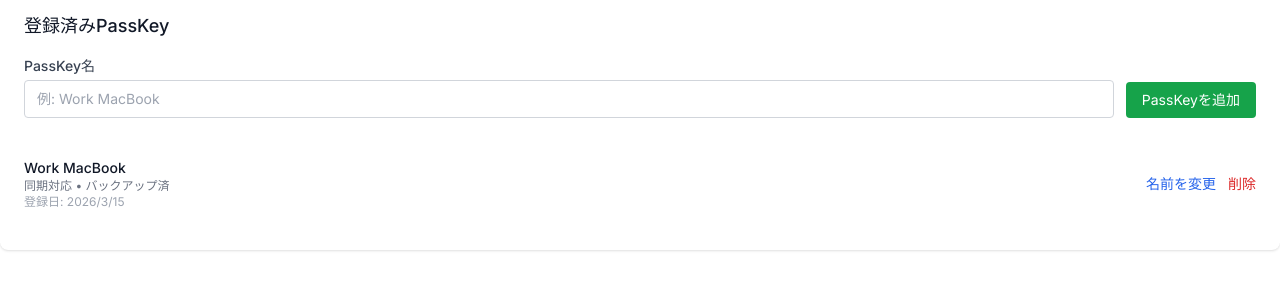
Test case: PasskeySettings › shows a UI error when passkey deletion fails
Click the button "削除".
click(1242, 184)  # box [1228,174,1256,194]
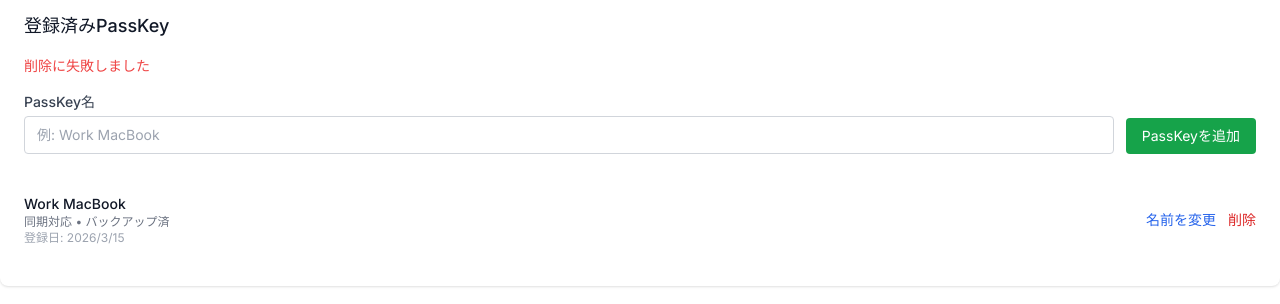
expect the text "削除に失敗しました" is shown: met, box [24,57,150,74]
